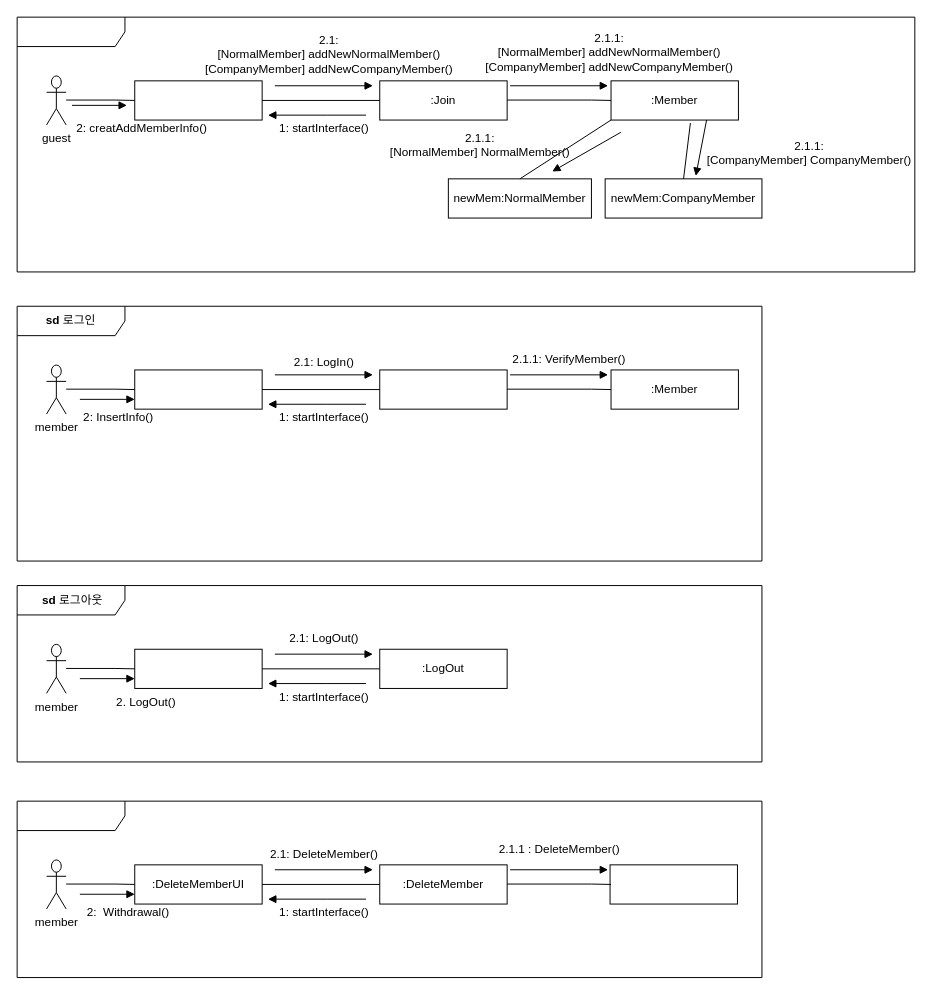
The diagram is 932 pixels wide and 995 high, and some of its shapes have lost their labels. Here are the shapes that lost their labels. From the top down, the box of each, then its label:
(134, 80, 262, 120): :JoinUI
(16, 16, 915, 272): sd 회원 가입
(134, 369, 262, 409): :LogInUI
(379, 369, 507, 409): :LogIn
(134, 648, 262, 688): :LogOutUI
(16, 800, 762, 978): sd 회원 탈퇴
(609, 864, 737, 904): DeleteMem:Member
